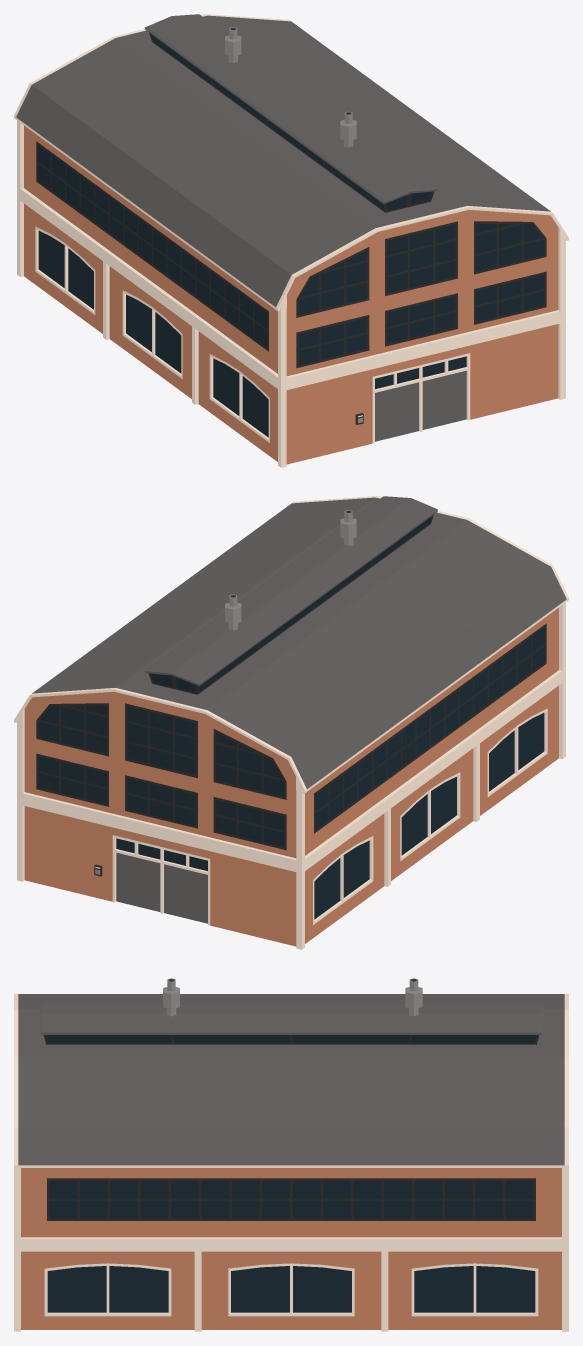
Rendered from industry-factory-hall.glb.
3 renders of one model, top to bottom at view 1: azimuth 30°, elevation 25°; view 2: azimuth 150°, elevation 25°; view 3: azimuth 270°, elevation 25°, orthographic. The views are drawn at different scales.
Parts seen in each view (by area): view 1: industry-factory-hall; view 2: industry-factory-hall; view 3: industry-factory-hall.
Boxes of the visible parts, x1,y1,x2,y2 form: industry-factory-hall: [14, 14, 568, 467]; industry-factory-hall: [14, 496, 568, 949]; industry-factory-hall: [14, 978, 568, 1331].
Bounding box in the file's own units: 12.78 × 11.11 × 20.08.
1 material, 1 textured.
